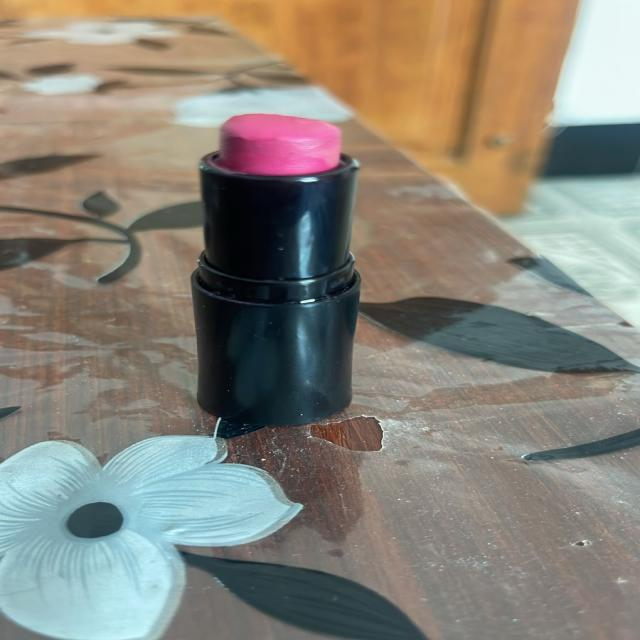lip stick: (178, 61, 427, 452)
